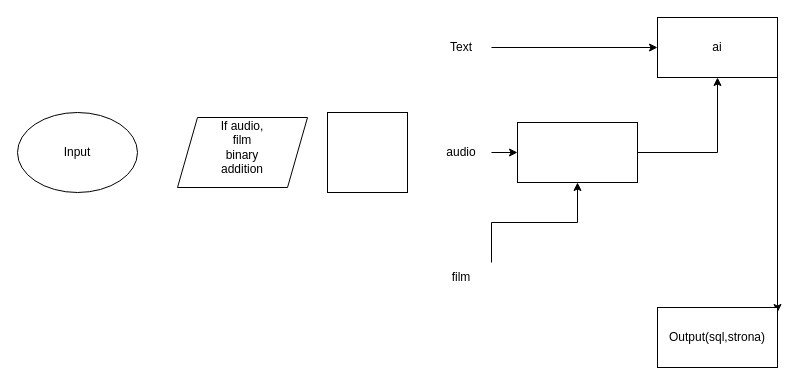
Image size: 804x385. Some labels were removed from this diagram. Each missing label, with the centre of its shape:
"Deepgram" belongs at (577,152).
"Switch On binary add" belongs at (367,152).
